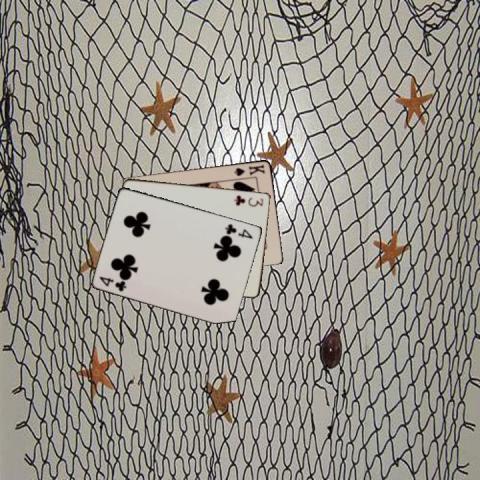3c: (231, 192, 265, 208)
4c: (97, 273, 128, 293), (222, 221, 254, 240)
Ks: (231, 162, 266, 178)
